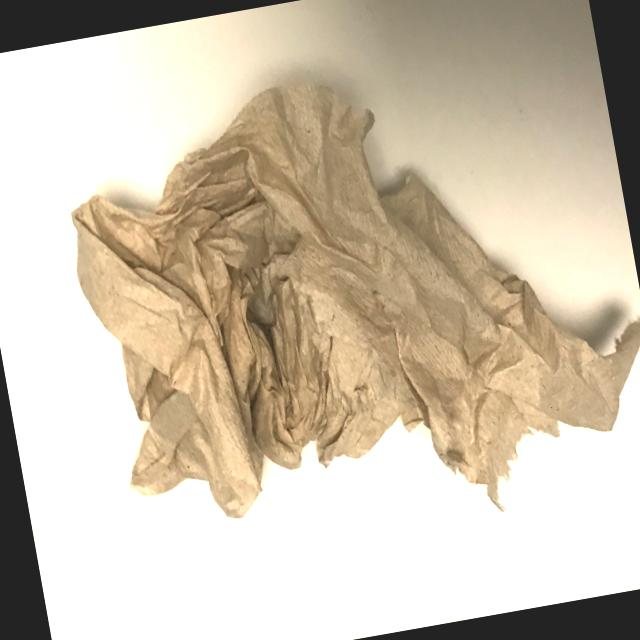Paper: (35, 20, 640, 583)
